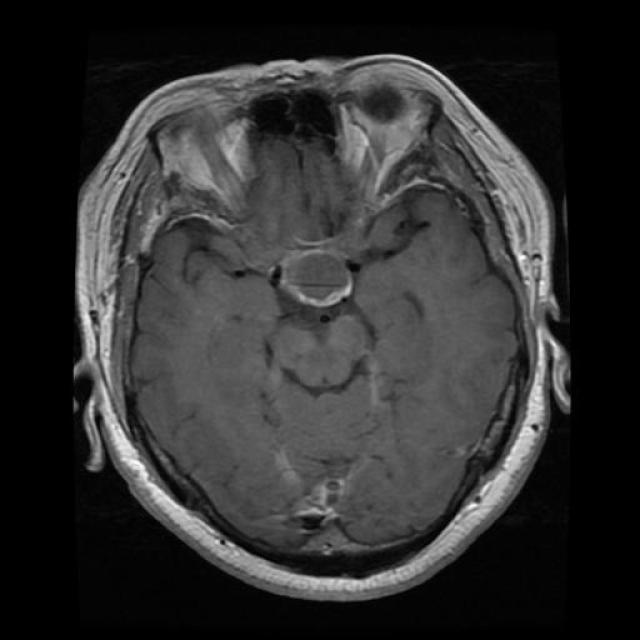pituitary: (248, 218, 370, 340)
